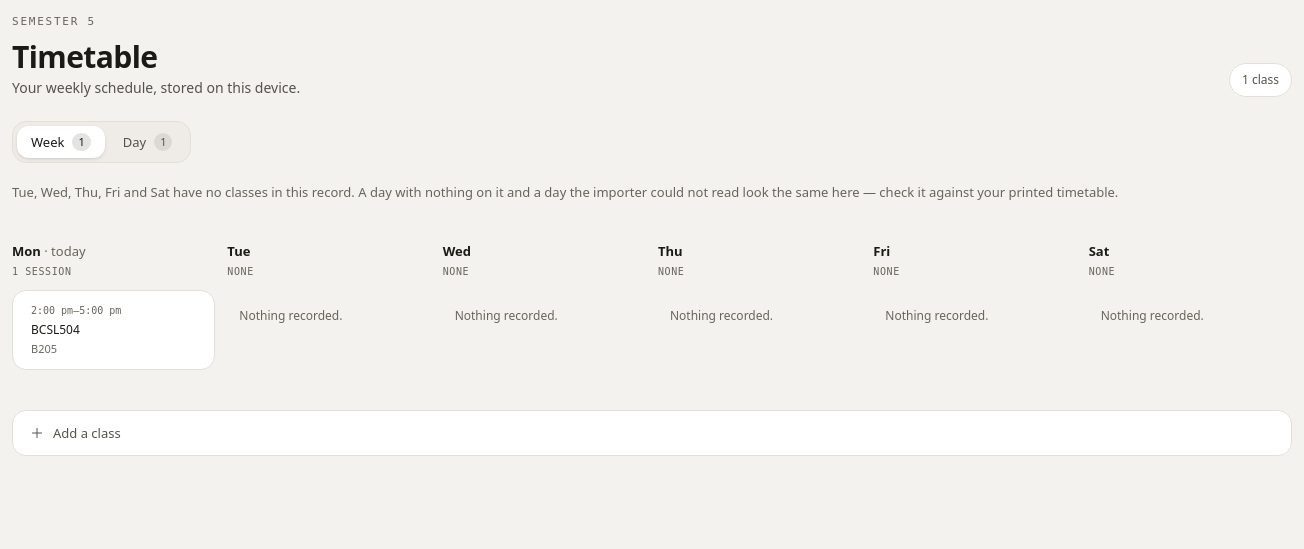
Test case: a lab is one class › offers one attendance action for a block that spans several periods
Click the tab "Day 1".
click(148, 142)  # box [109,126,186,158]
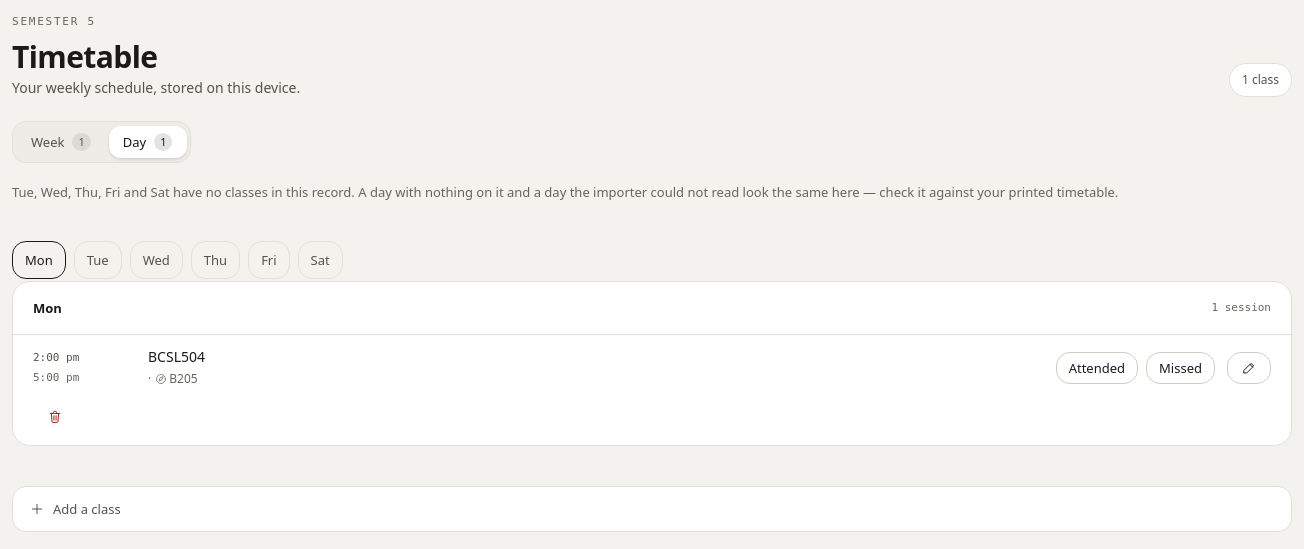
Result: the number of buttons named "mark BCSL504 attended" is 1 at [1056,352,1138,384]
